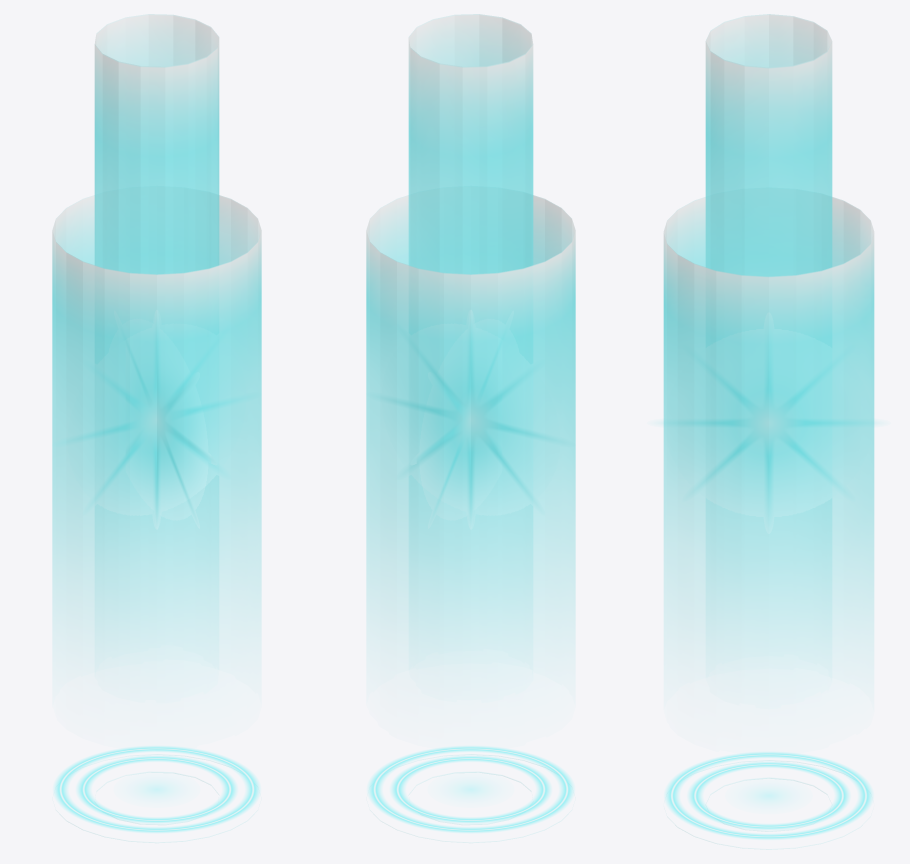
File: fx_up_chain.glb
3 renders of one model, left to right at view 1: azimuth 30°, elevation 25°; view 2: azimuth 150°, elevation 25°; view 3: azimuth 270°, elevation 25°, orthographic.
Visible parts, largest first — view 1: fx_up_pillar, fx_up_star, fx_up_ring; view 2: fx_up_pillar, fx_up_star, fx_up_ring; view 3: fx_up_pillar, fx_up_star, fx_up_ring.
Boxes of the visible parts, x1,y1,x2,y2 form: fx_up_pillar: [52, 14, 261, 842]; fx_up_star: [64, 347, 239, 517]; fx_up_ring: [54, 746, 259, 832]; fx_up_pillar: [366, 14, 575, 842]; fx_up_star: [387, 342, 563, 516]; fx_up_ring: [368, 746, 573, 832]; fx_up_pillar: [663, 14, 874, 849]; fx_up_star: [661, 352, 876, 510]; fx_up_ring: [665, 752, 872, 839].
Bounding box in the file's own units: 1.2 × 4 × 1.2.
Materials: 3 (3 with a texture image).
